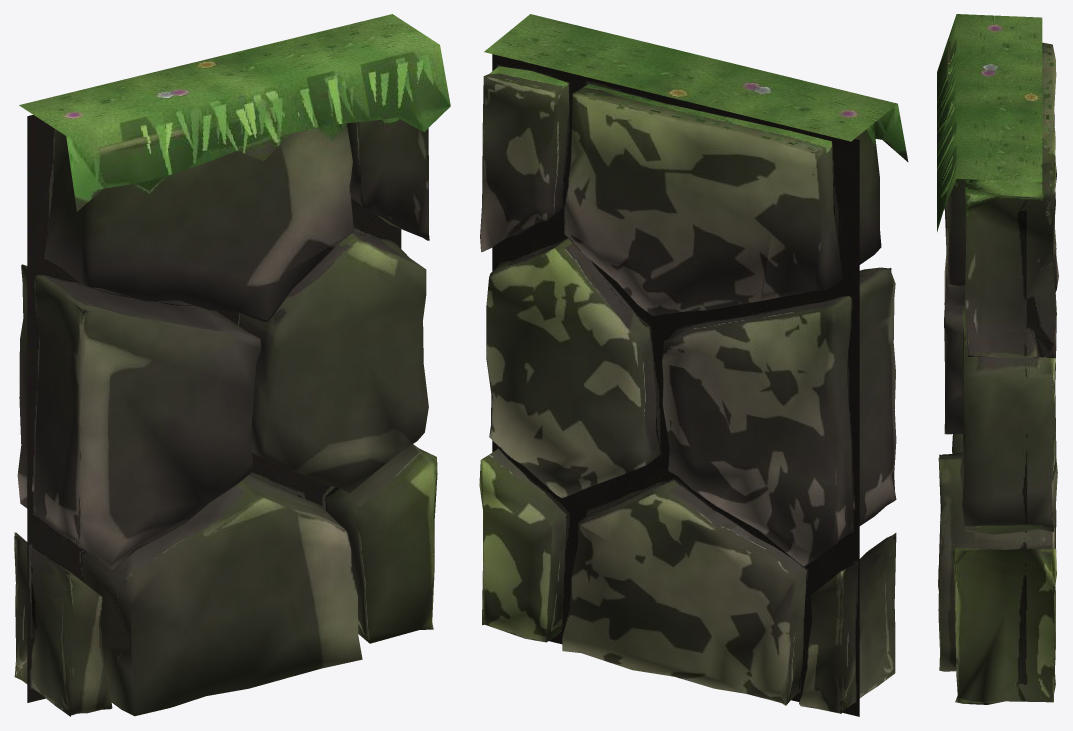
The model's file is wall1_a.glb.
3 renders of one model, left to right at view 1: azimuth 30°, elevation 25°; view 2: azimuth 150°, elevation 25°; view 3: azimuth 270°, elevation 25°, orthographic. The views are drawn at different scales.
Parts seen in each view (by area): view 1: wall1_a; view 2: wall1_a; view 3: wall1_a.
Part boxes in pixels (box(x1,y1,x2,y2)): wall1_a: box(14, 14, 450, 716); wall1_a: box(479, 14, 908, 716); wall1_a: box(937, 14, 1058, 704).
Bounding box in the file's own units: 1 × 1.52 × 0.3127.
Materials: 1 (1 with a texture image).
